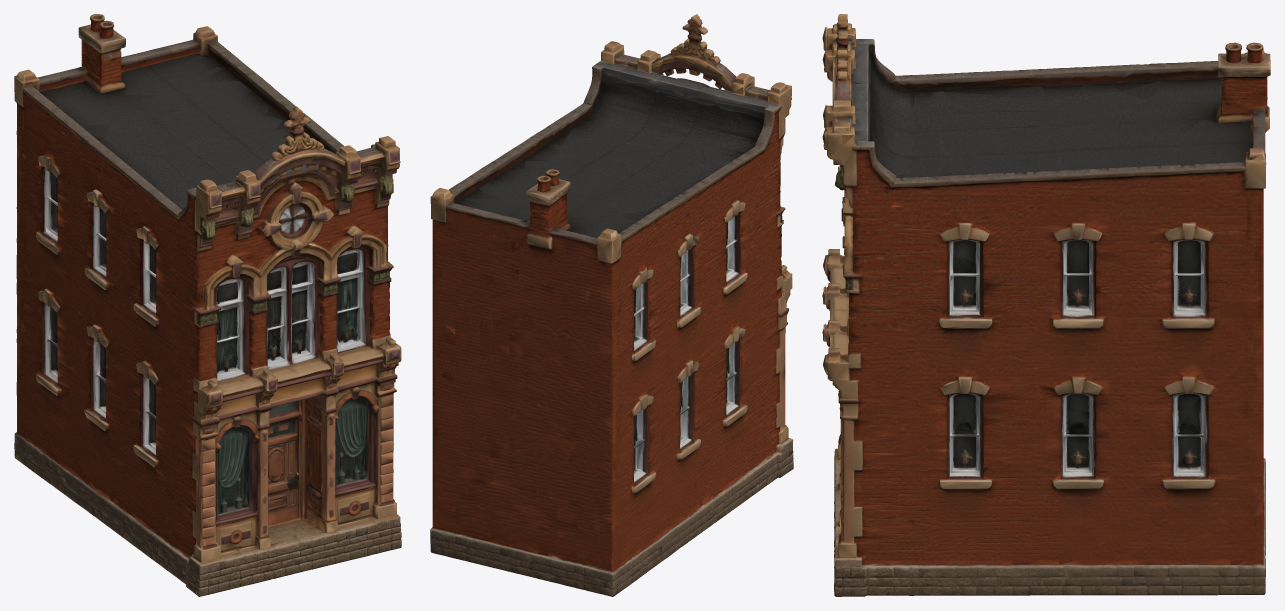
The model's file is PlymouthStore_Comparison_LOD1.fbx.
3 views of the same model, side by side, from view 1: azimuth 30°, elevation 25°; view 2: azimuth 150°, elevation 25°; view 3: azimuth 270°, elevation 25° (orthographic). The views are drawn at different scales.
Parts seen in each view (by area): view 1: PlymouthStore_LOD1; view 2: PlymouthStore_LOD1; view 3: PlymouthStore_LOD1.
Part boxes in pixels (bbox=[...]): PlymouthStore_LOD1: bbox=[14, 14, 401, 596]; PlymouthStore_LOD1: bbox=[430, 14, 793, 596]; PlymouthStore_LOD1: bbox=[822, 14, 1270, 596].
Bounding box in the file's own units: 551 × 1200 × 926.
